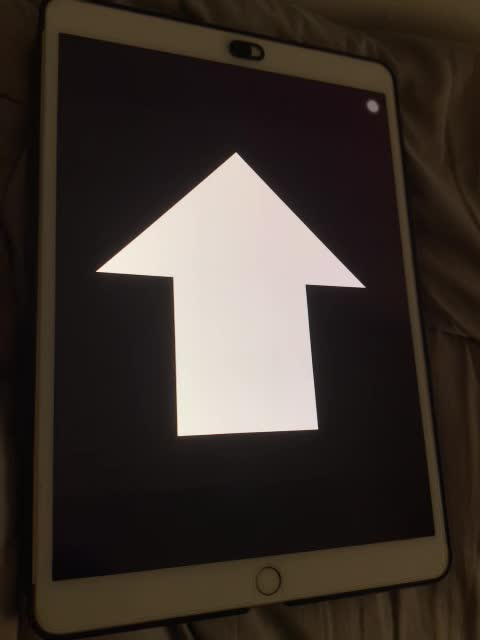up: (89, 148, 370, 442)
